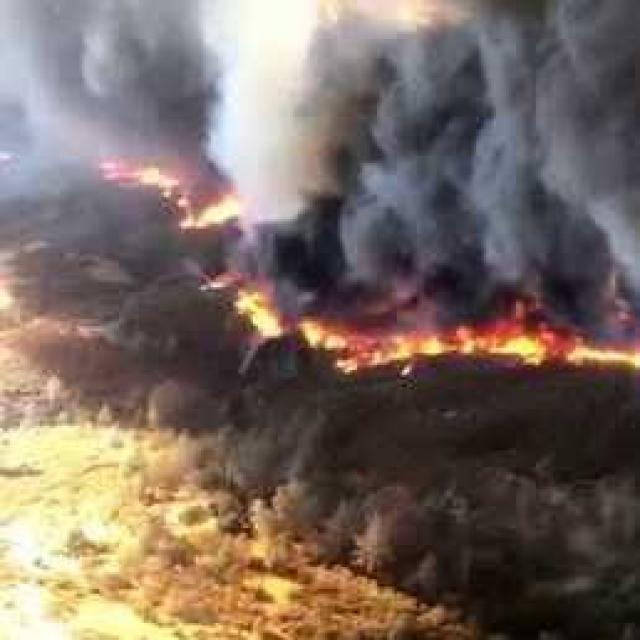Fire: (90, 162, 638, 366)
Smoke: (0, 0, 640, 271)
